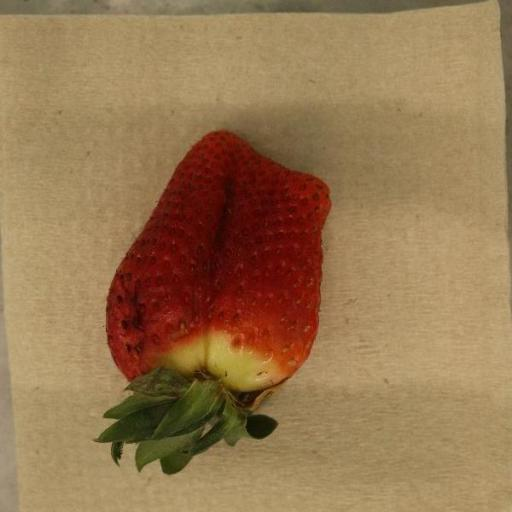Strawberry: (95, 131, 332, 477)
